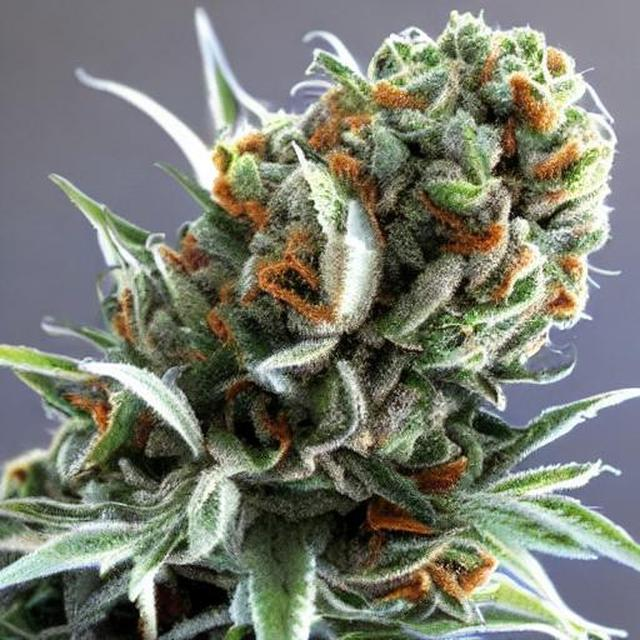Marijuana Plant: (57, 0, 577, 600)
